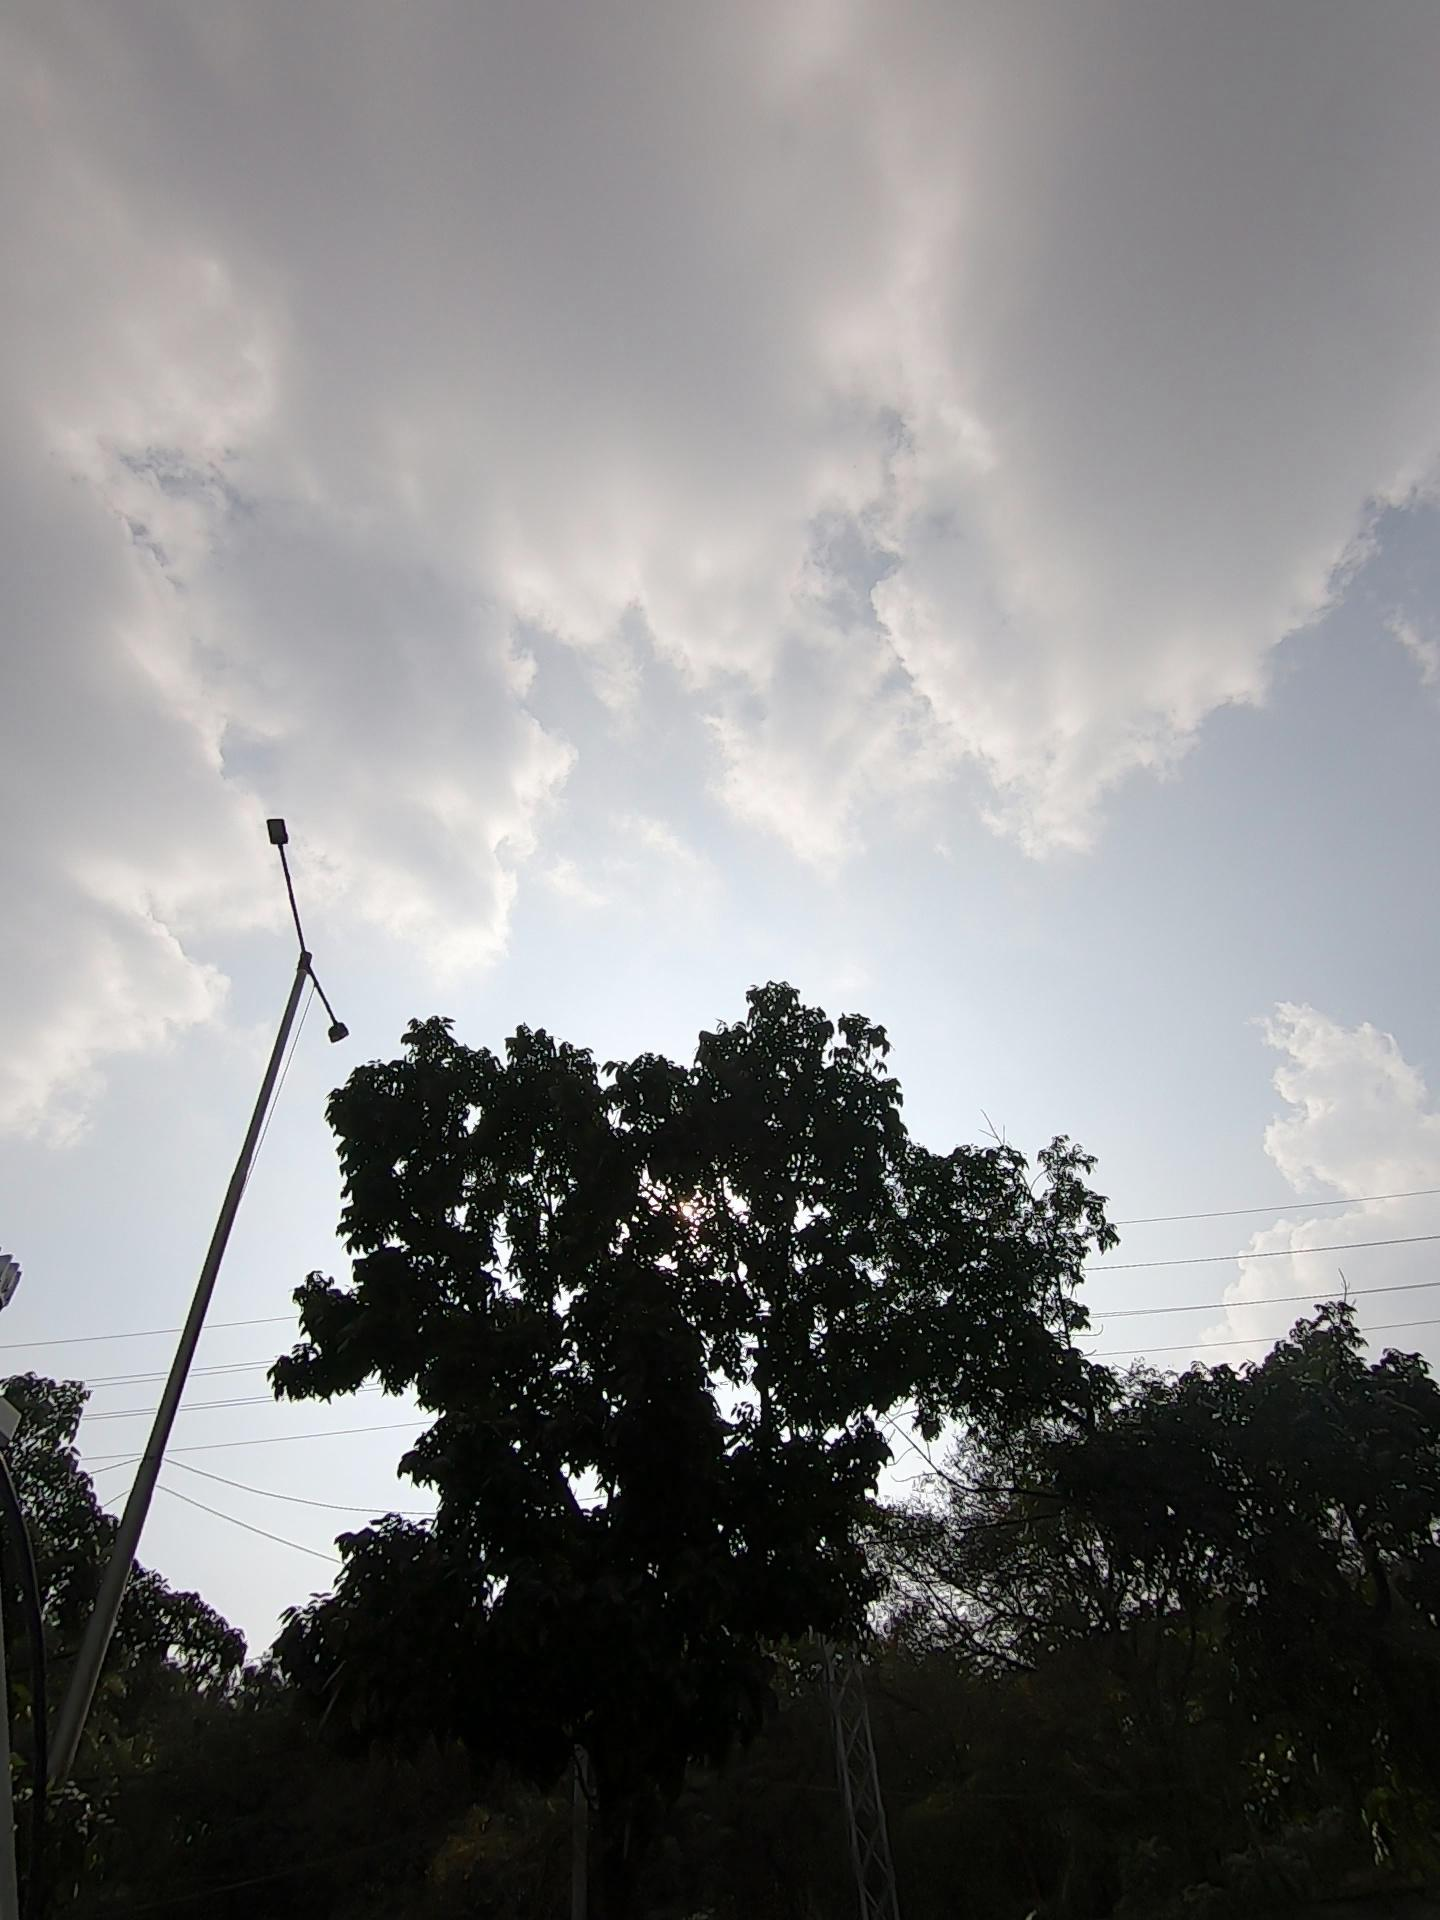off: (200, 711, 384, 1120)
